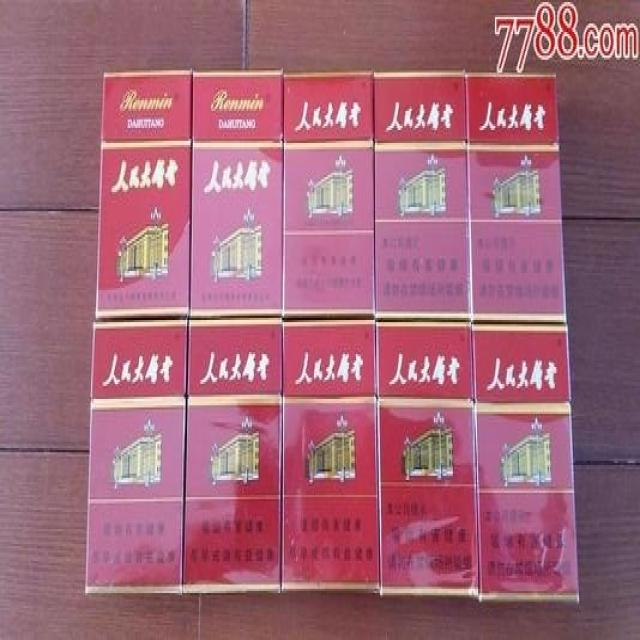box: (472, 324, 579, 602), (86, 320, 189, 597), (376, 320, 478, 599), (183, 320, 283, 595), (282, 320, 379, 595), (465, 73, 566, 324), (373, 73, 472, 326), (95, 70, 192, 322), (283, 73, 378, 320), (191, 70, 283, 320)
